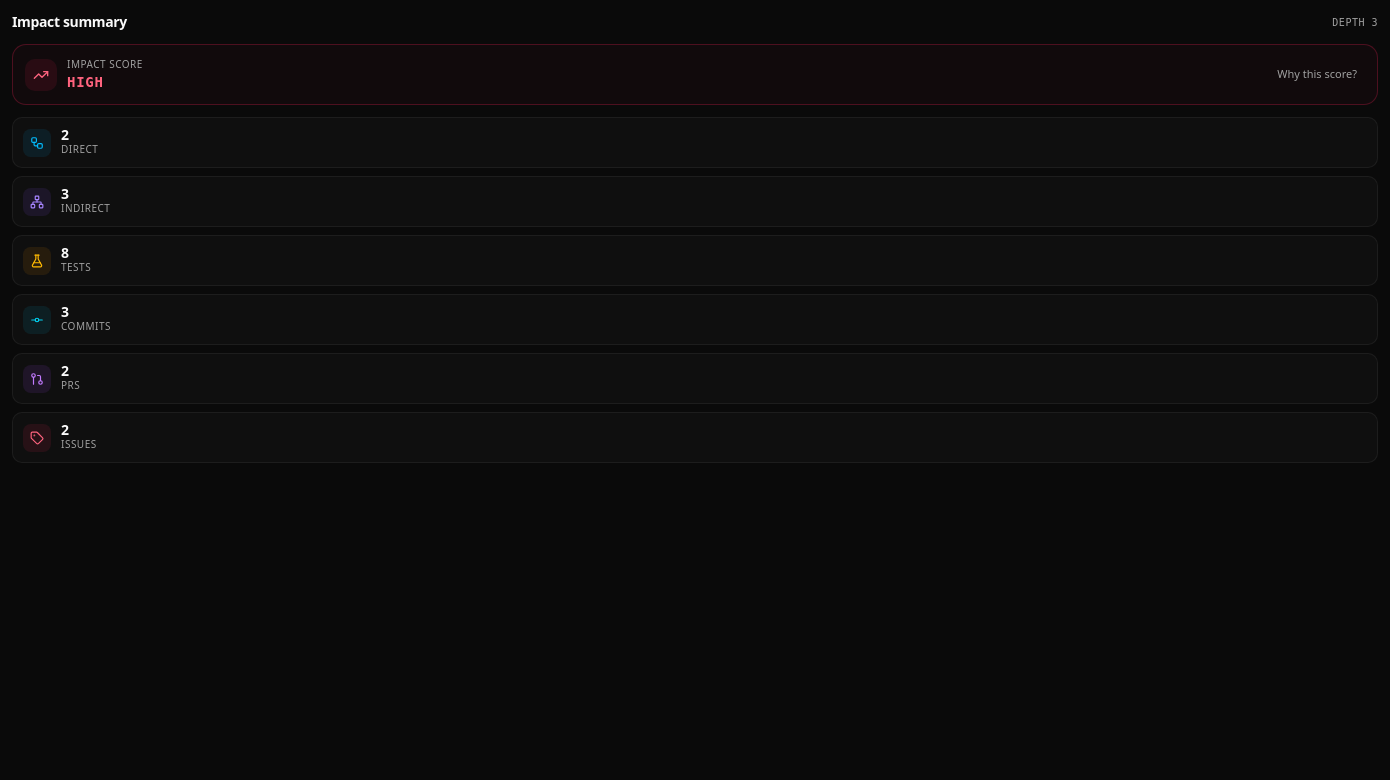
Scenario: ImpactSummary › renders the deterministic score and its graph-fact reasons
The width and height of the screenshot is (1390, 780).
Expected: the element with test id "impact-score" is shown, [12,44,1378,105]
Expected: the text "Impact score" is shown, [67,57,143,72]
Click the button "Why this score?" at (1317, 75), box [1269,62,1365,87]
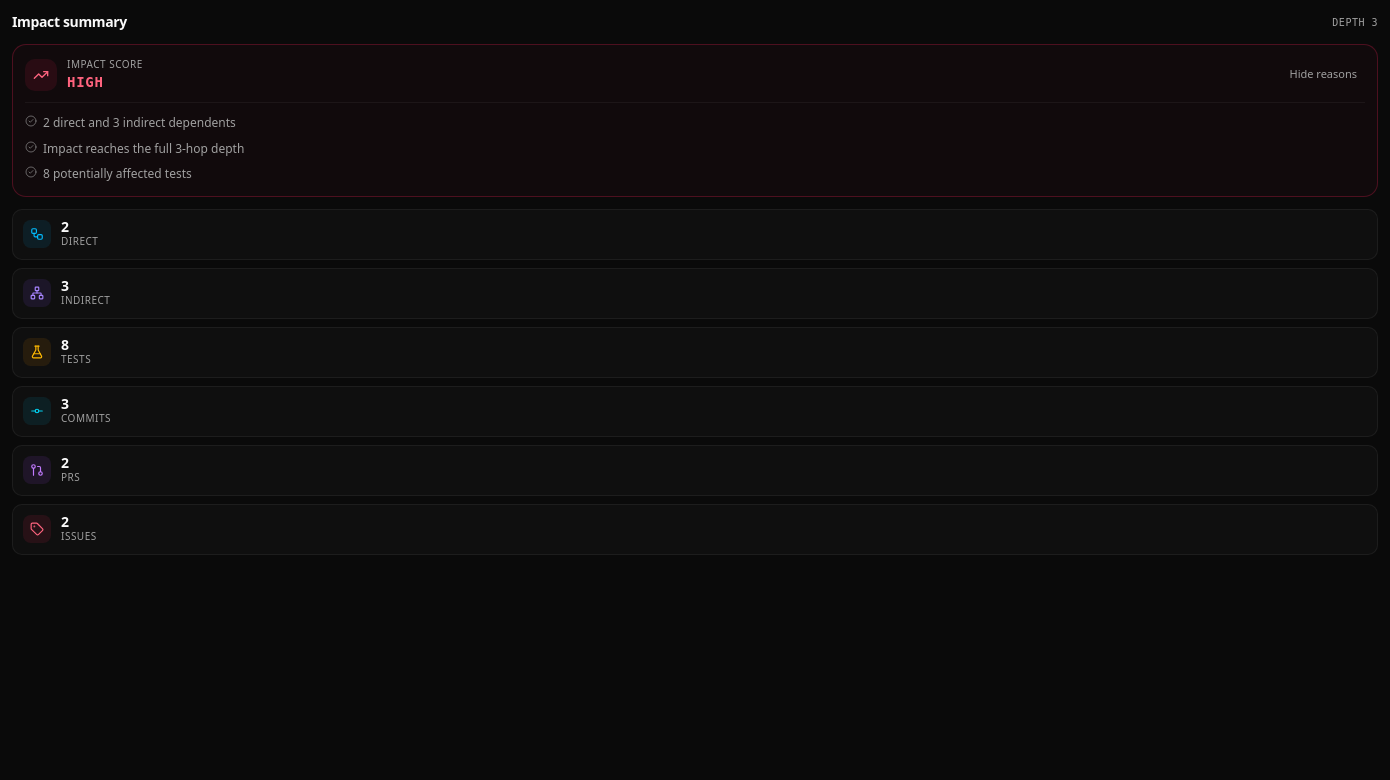
Expected: the list item "2 direct and 3 indirect dependents" is shown, [25,114,236,131]
Expected: the list item "Impact reaches the full 3-hop depth" is shown, [25,140,244,156]
Expected: the list item "8 potentially affected tests" is shown, [25,165,192,182]
